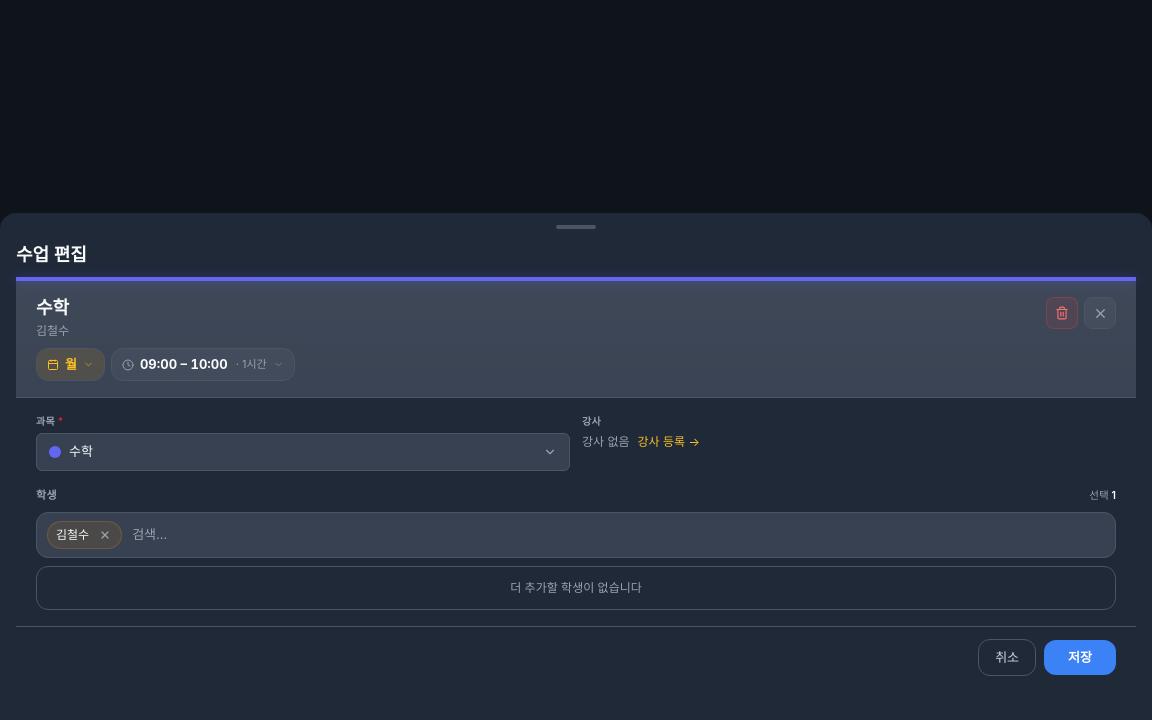
Test: EditSessionModal Integration Tests › 시간 chip 클릭 시 popover에 시작/종료 시간 input이 렌더링되어야 한다 (Variant C)
The width and height of the screenshot is (1152, 720).
Note: 헤더 시간 chip 클릭 → popover open
What coordinates should you click on to do the following:
click the button with aria-label "수업 시간:"
I would click on:
 (203, 365)
Its box is [111,348,295,381].
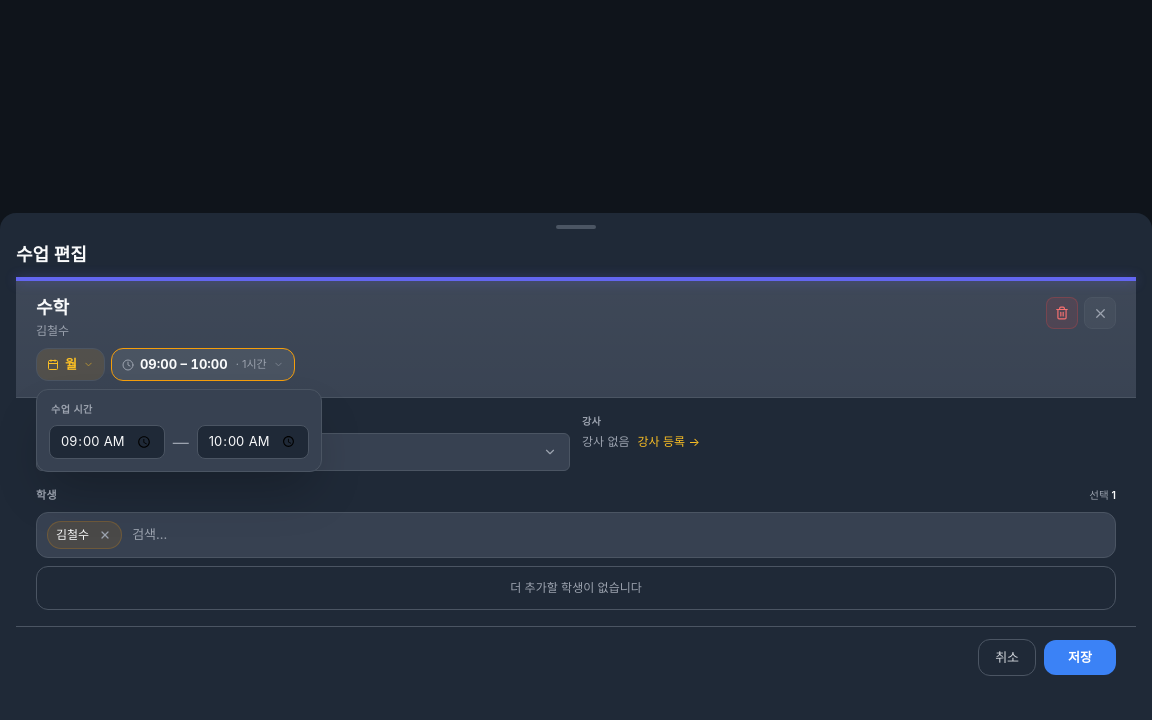
Expected: the time field showing "09:00" is shown, [49,425,165,459]
Expected: the time field showing "10:00" is shown, [197,425,309,459]
